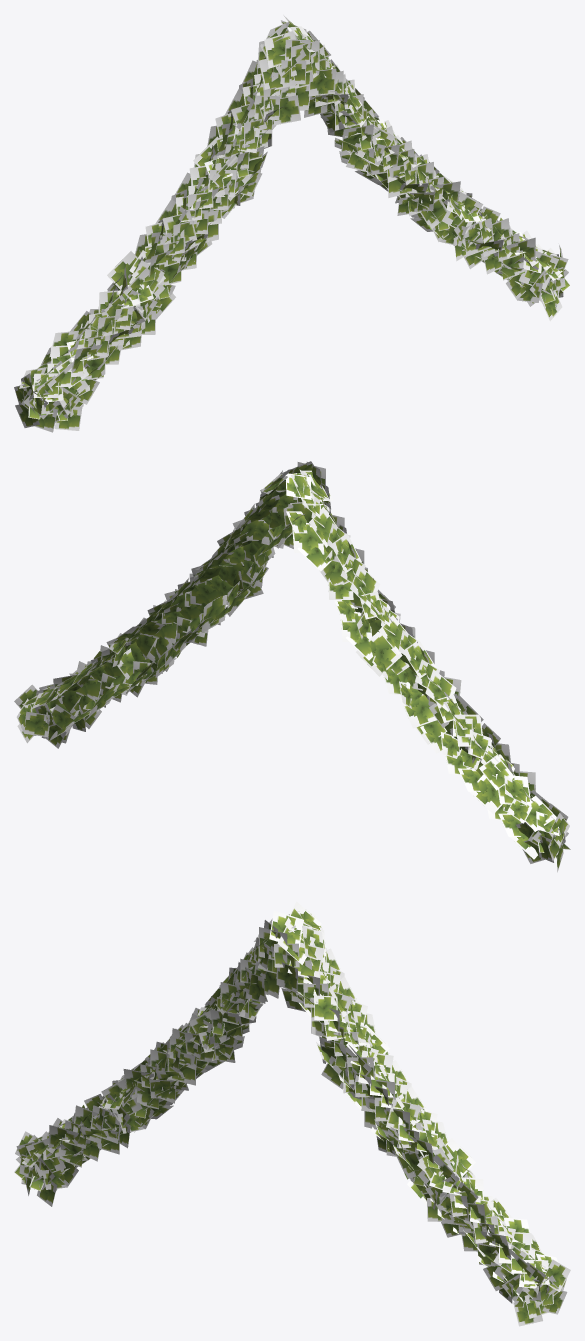
File: Ivy_02.glb
3 views of the same model, one above another, from view 1: azimuth 30°, elevation 25°; view 2: azimuth 150°, elevation 25°; view 3: azimuth 330°, elevation 25° (orthographic).
Visible parts, largest first — view 1: Ivy_02_LOD0; view 2: Ivy_02_LOD0; view 3: Ivy_02_LOD0.
Boxes of the visible parts, x1=… form: Ivy_02_LOD0: x1=14, y1=15, x2=570, y2=432; Ivy_02_LOD0: x1=14, y1=461, x2=570, y2=872; Ivy_02_LOD0: x1=14, y1=901, x2=570, y2=1326.
Size of what is drawn, in the model's own units: 8.75 by 5.38 by 1.08.
Materials: 1 (1 with a texture image).
